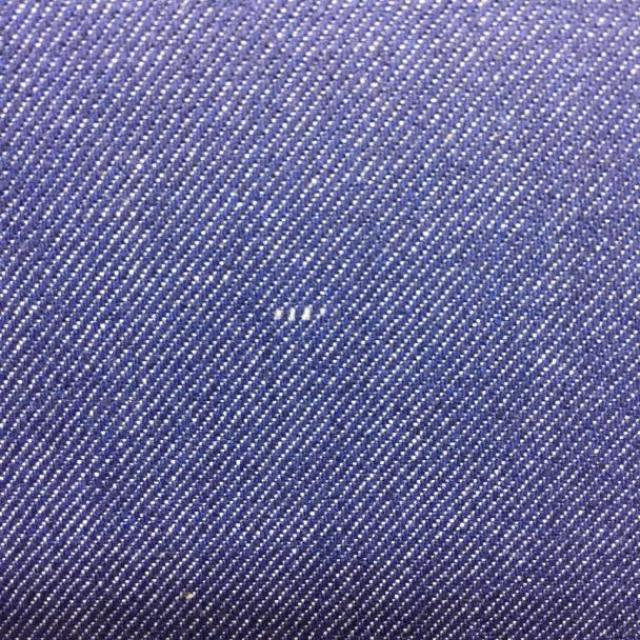Knot: (273, 306, 326, 322)
